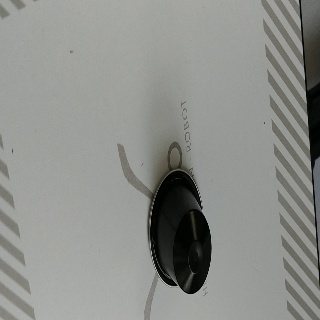capsule_10: (148, 168, 212, 295)
